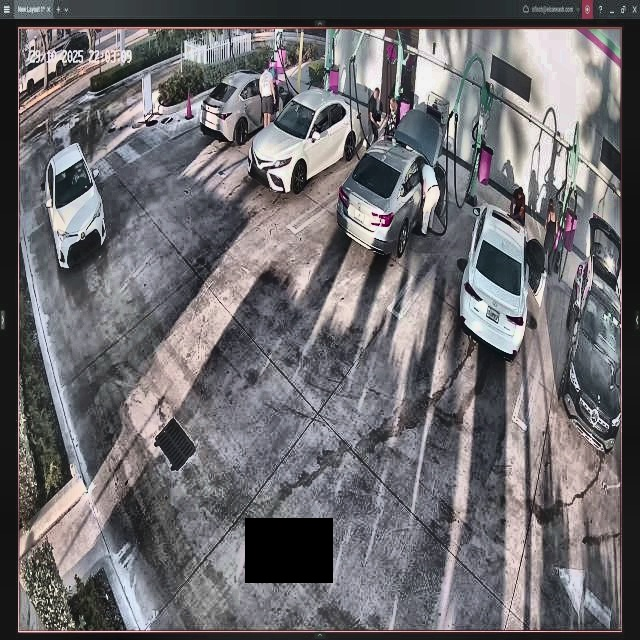Car: (336, 110, 448, 254), (454, 203, 546, 357), (252, 87, 360, 195), (202, 69, 294, 143)
